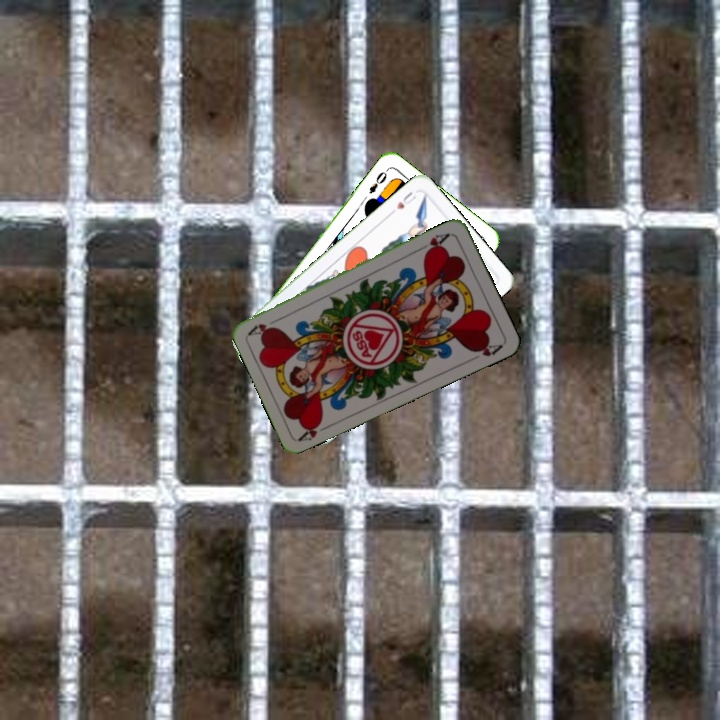EO: (365, 165, 391, 196)
HA: (295, 416, 334, 444), (416, 229, 453, 257)
HU: (386, 188, 419, 217)
